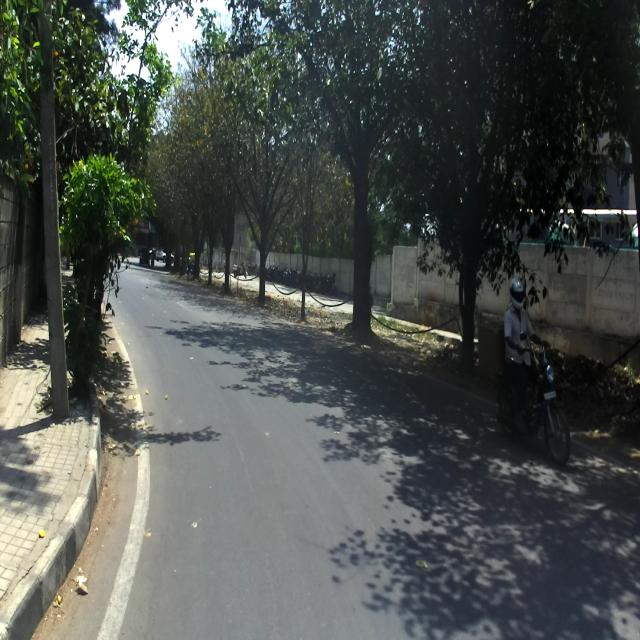electric pole ahead at: (32, 20, 78, 418)
motorcycle ahead at: (480, 326, 576, 474)
tree ahead at: (342, 120, 386, 346), (456, 218, 481, 376)
